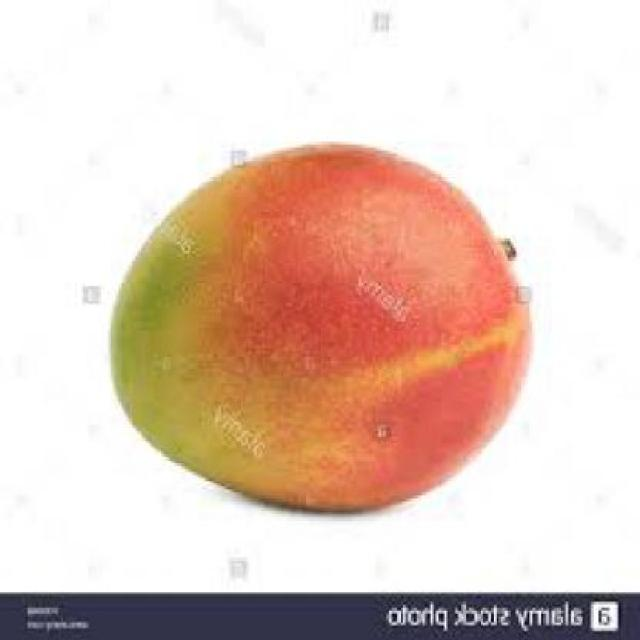BIODEGRADABLE: (111, 135, 535, 511)
